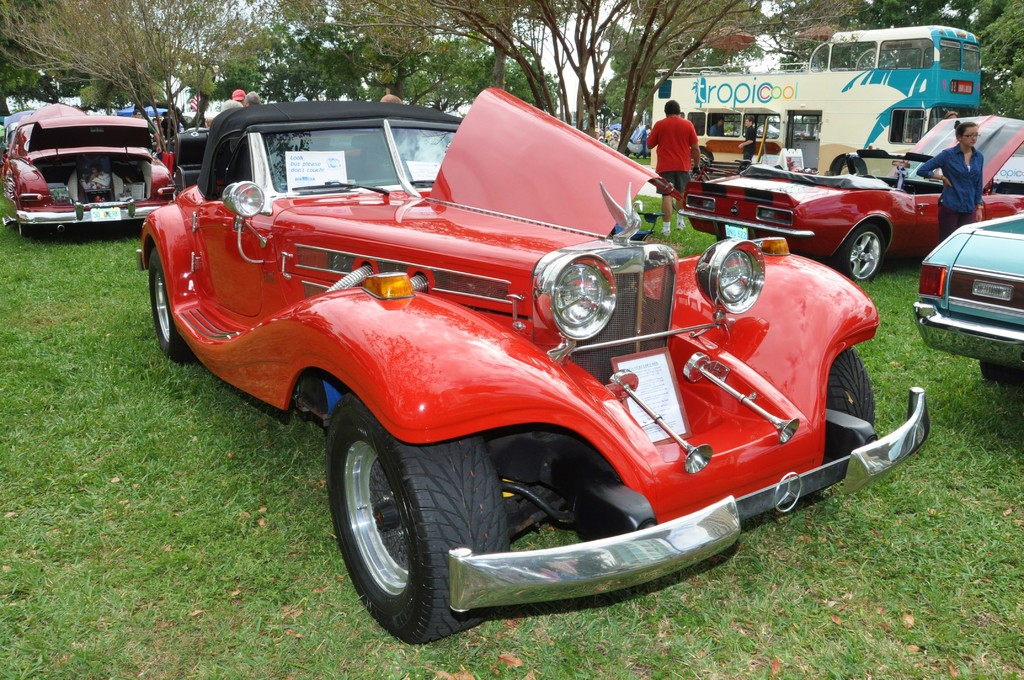Car: (0, 84, 1023, 646)
